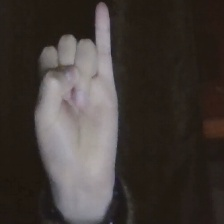I: (28, 1, 124, 191)
